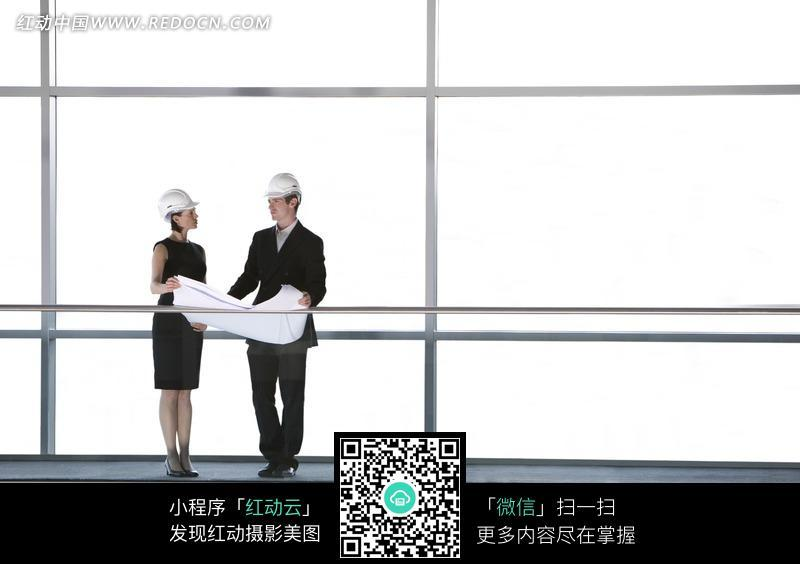helmet: (158, 188, 199, 226), (261, 171, 304, 203)
